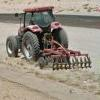Tractor: (9, 6, 96, 73)
